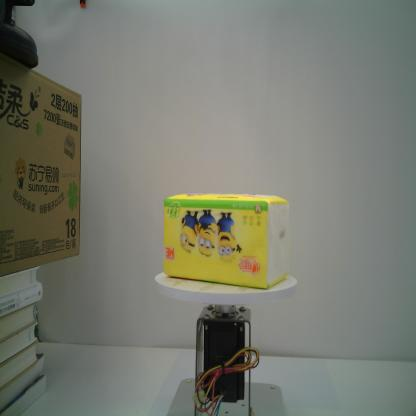Tissue: (162, 192, 289, 289)
